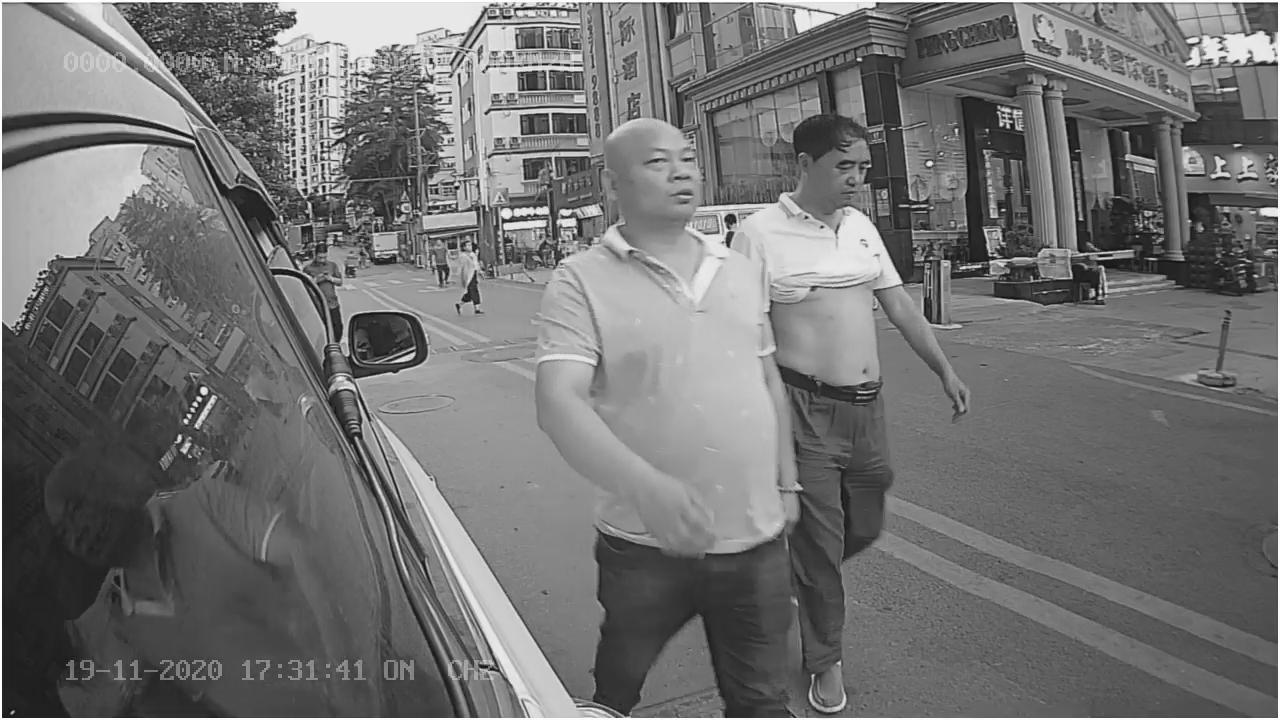person: (524, 131, 761, 623)
